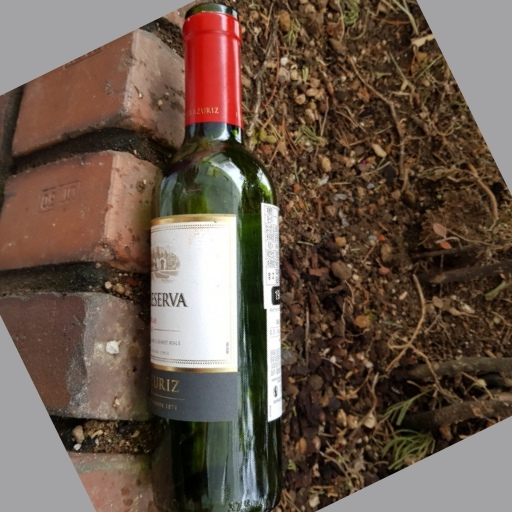Glass_2: (147, 7, 284, 512)
